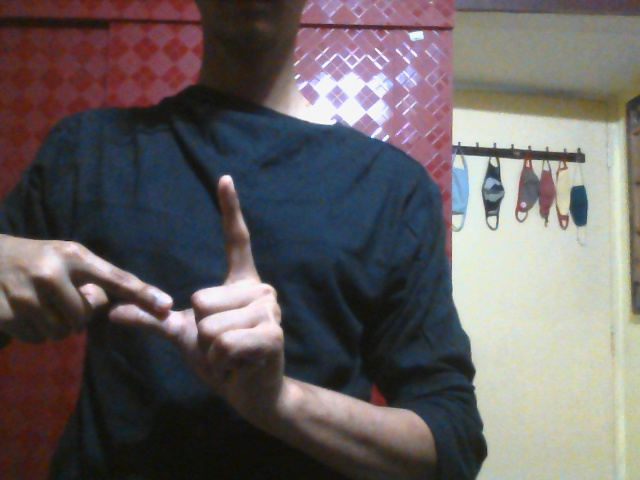J: (2, 174, 284, 397)
